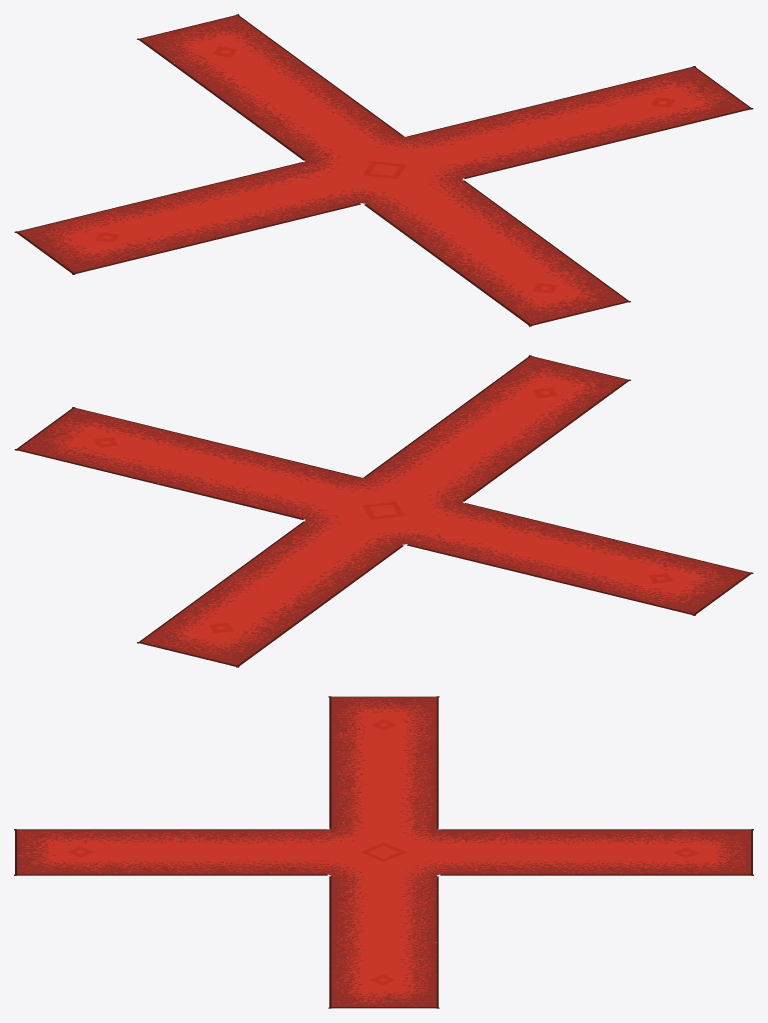
File: FourWayCarpet.fbx
The picture shows the model from 3 angles, top to bottom: view 1: azimuth 30°, elevation 25°; view 2: azimuth 150°, elevation 25°; view 3: azimuth 270°, elevation 25°; orthographic projection. The views are drawn at different scales.
Parts seen in each view (by area): view 1: Carpet; view 2: Carpet; view 3: Carpet.
Boxes of the visible parts, left/top/right/bottom form: Carpet: left=14, top=14, right=753, bottom=326; Carpet: left=14, top=355, right=753, bottom=667; Carpet: left=14, top=696, right=753, bottom=1008.
Bounding box in the file's own units: 46975 × 46.5 × 46993.
